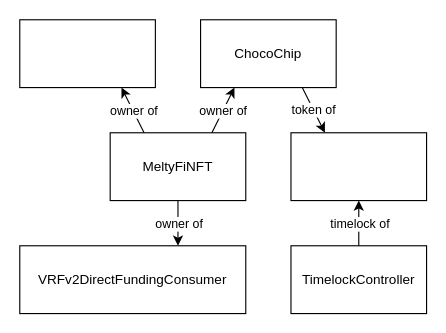
This 446x333 diagram has some shape labels left out. Each missing label, with the centre of its shape:
LogoCollection: (87,53)
MeltyFiDAO: (358,166)
